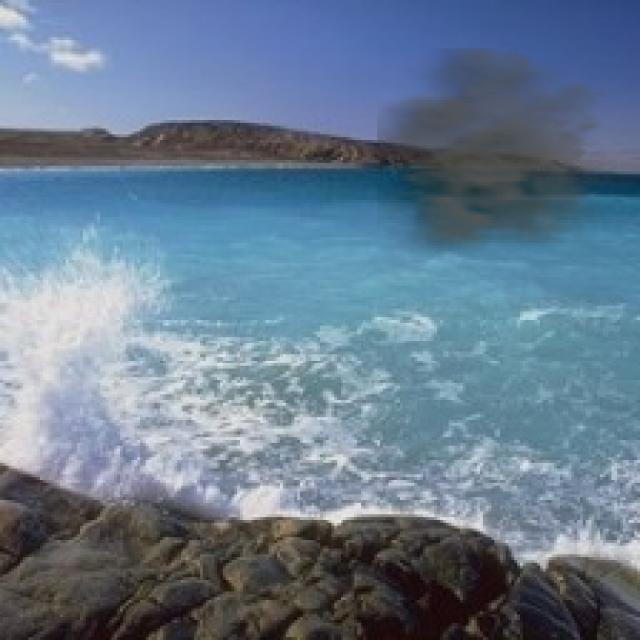Smoke: (377, 48, 632, 263)
